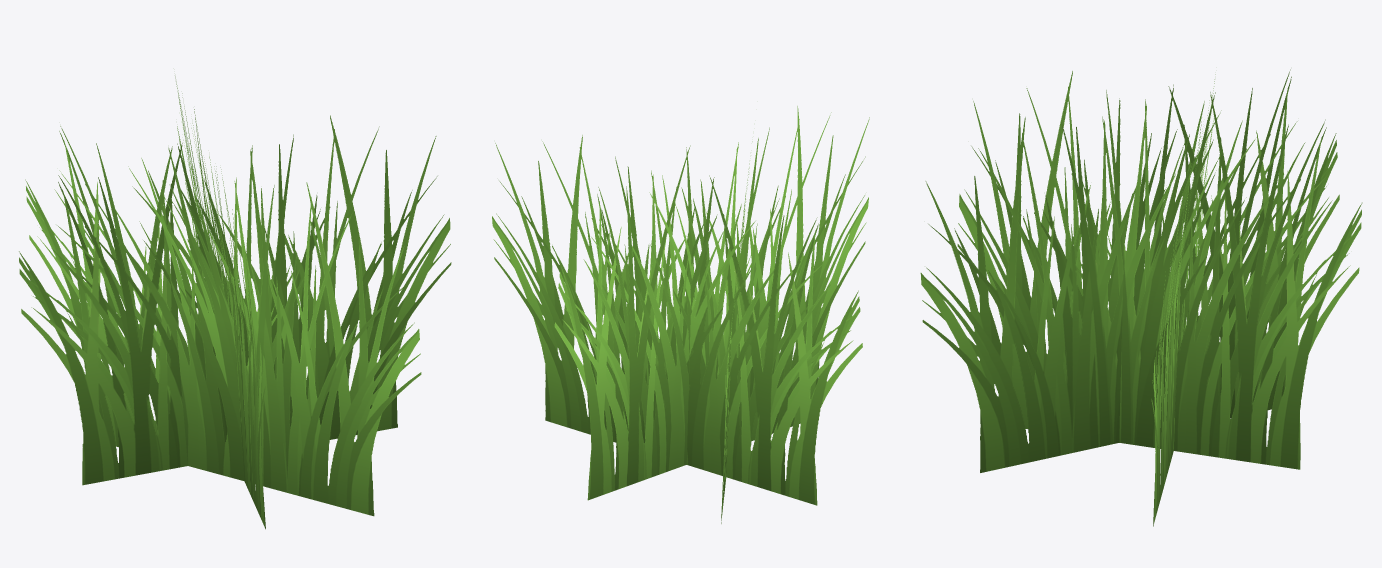
The model's file is grass_2.glb.
The picture shows the model from 3 angles, left to right: view 1: azimuth 30°, elevation 25°; view 2: azimuth 150°, elevation 25°; view 3: azimuth 270°, elevation 25°; orthographic projection. The views are drawn at different scales.
Parts seen in each view (by area): view 1: grass_2; view 2: grass_2; view 3: grass_2.
Part boxes in pixels (x1,y1,x2,y2): grass_2: [19, 76, 451, 529]; grass_2: [492, 106, 869, 523]; grass_2: [920, 69, 1362, 526].
Size of the model in its own units: 0.5812 by 0.5055 by 0.5576.
1 material, 1 textured.
